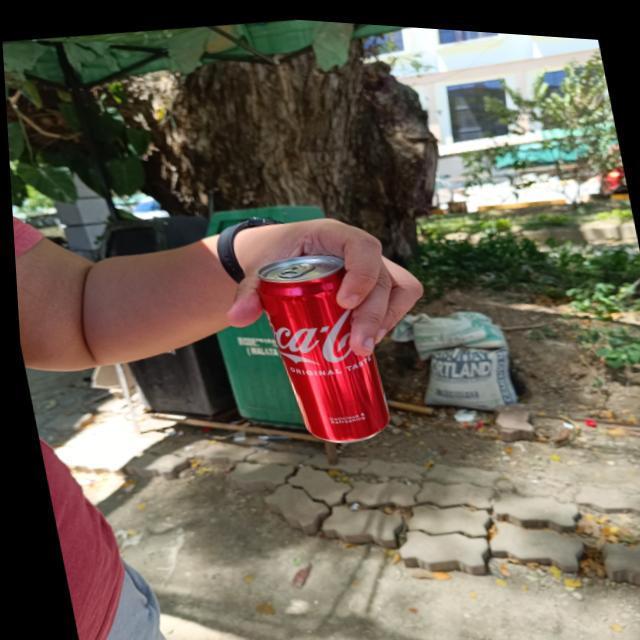coke: (252, 245, 387, 445)
